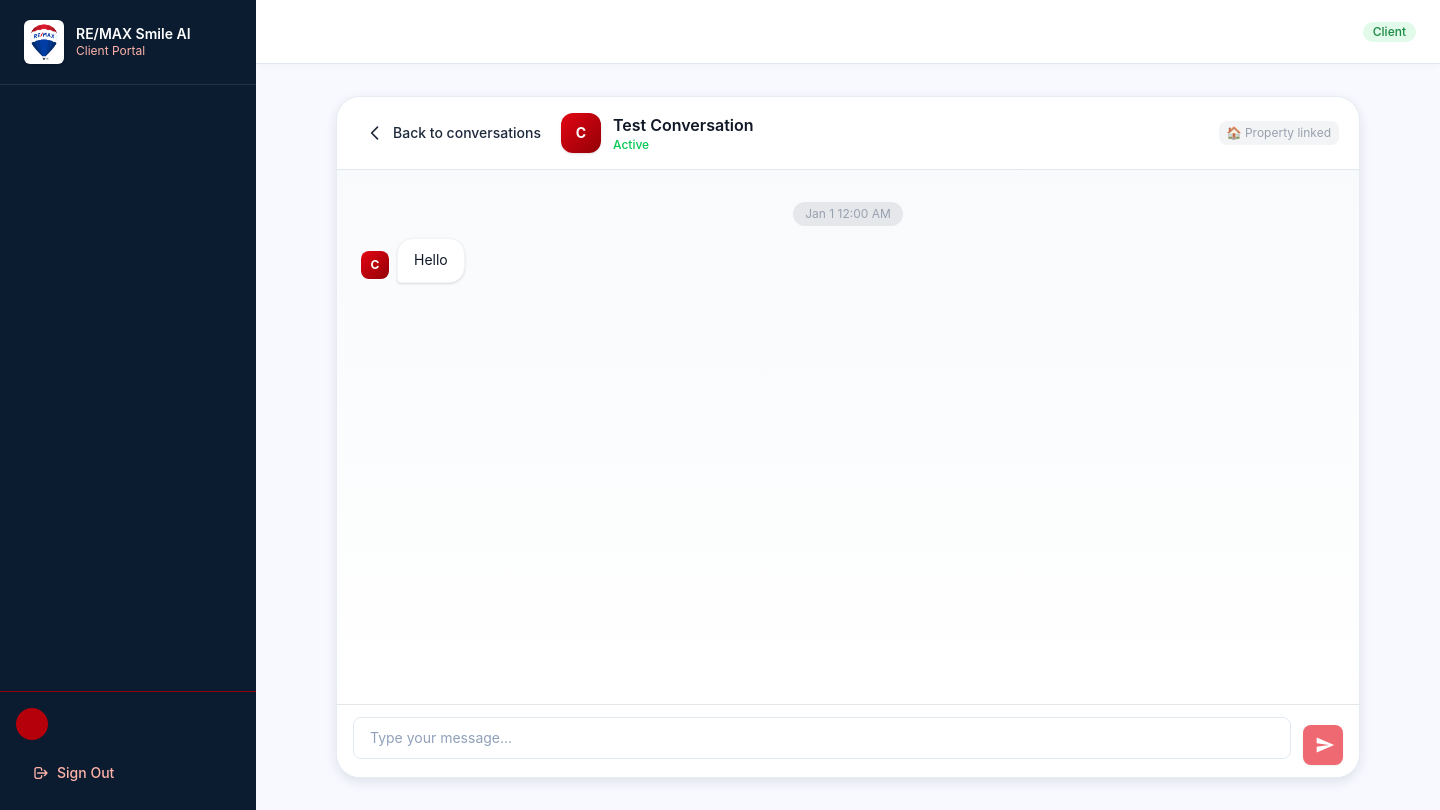
AgentConversationDetail › sends a message when pressing Enter
Type "New message" into the text box with placeholder "Type your message..." at (822, 738), box [353,717,1291,759]
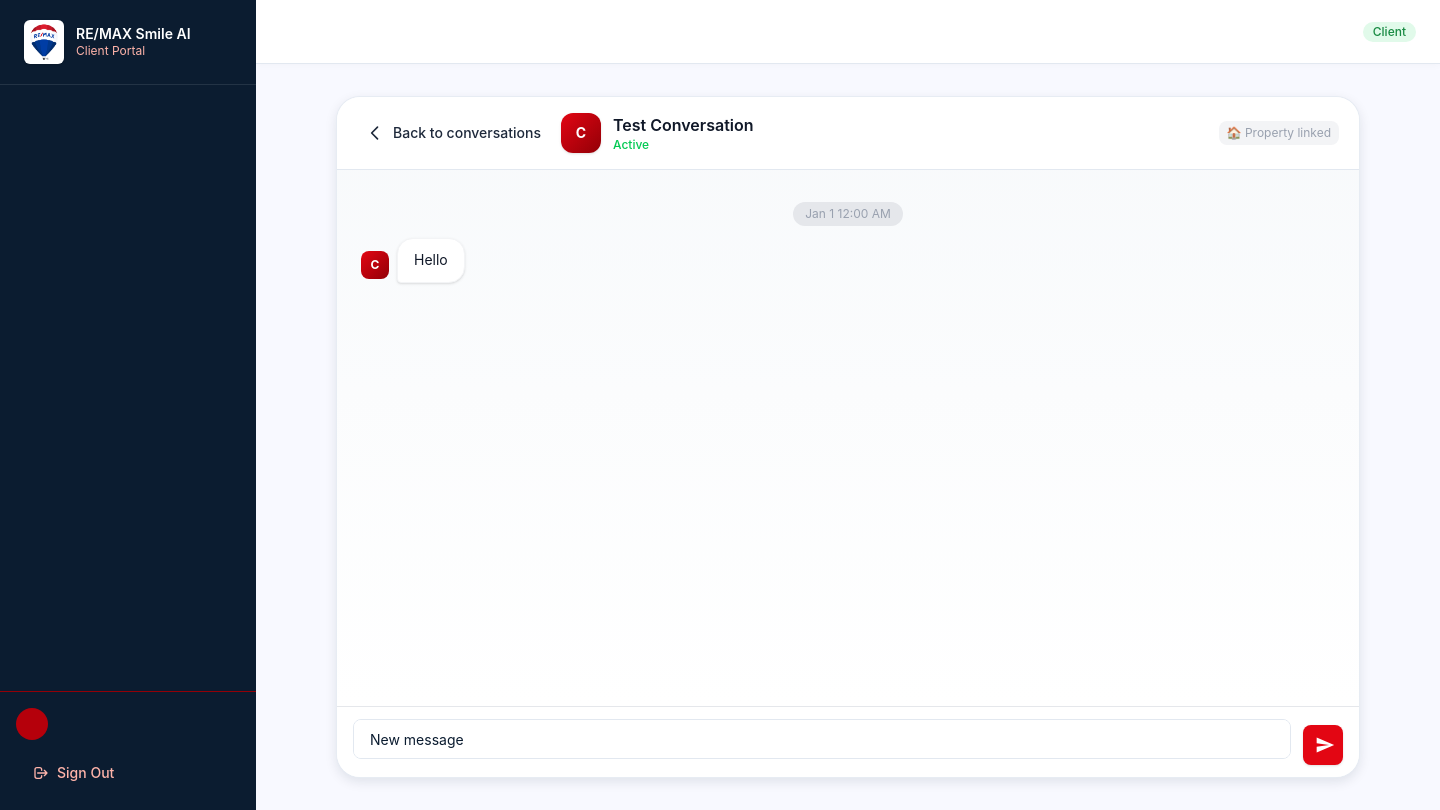
Press Enter in the text box with placeholder "Type your message...", box [353,719,1291,759]
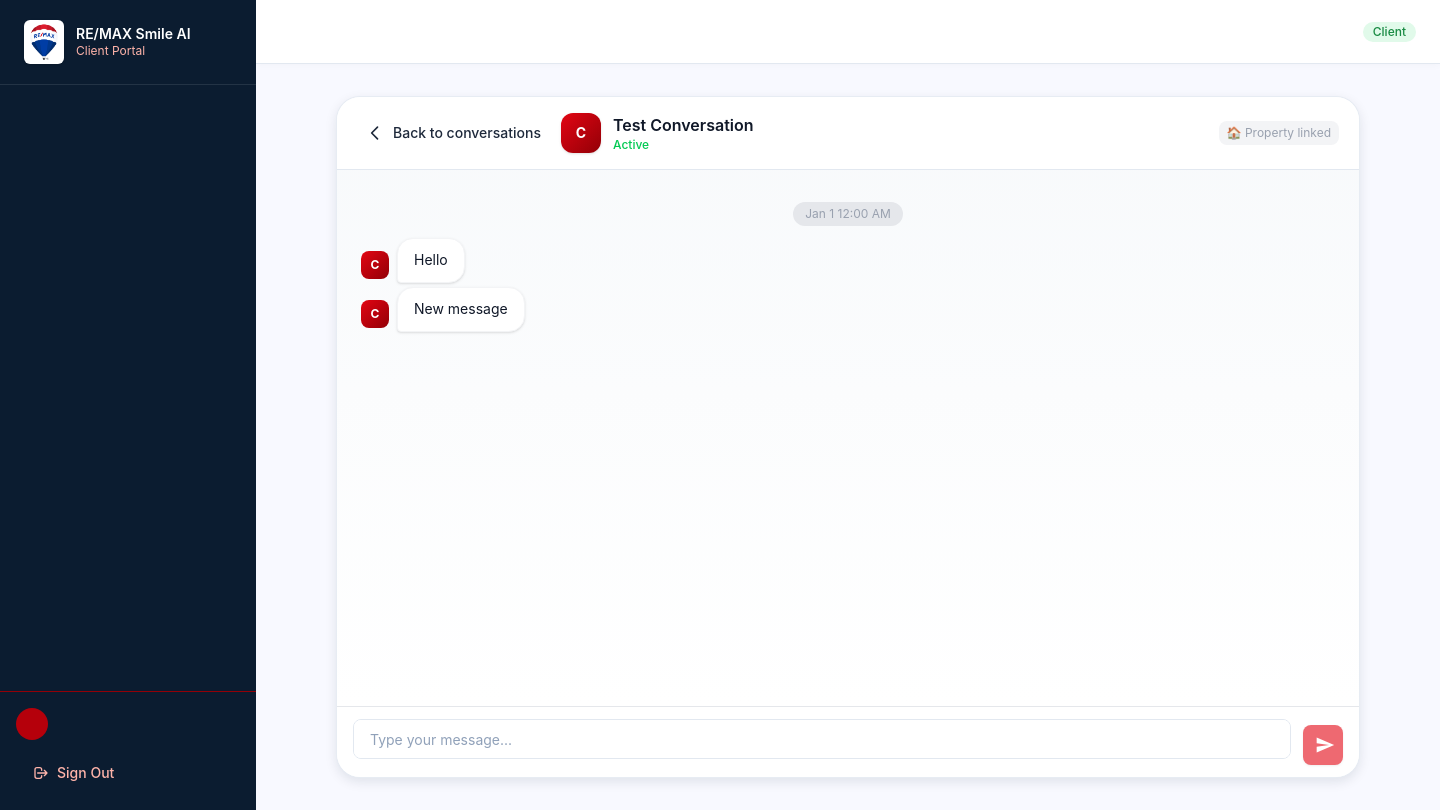
Check: the text "New message" is shown, box [414,298,508,321]
